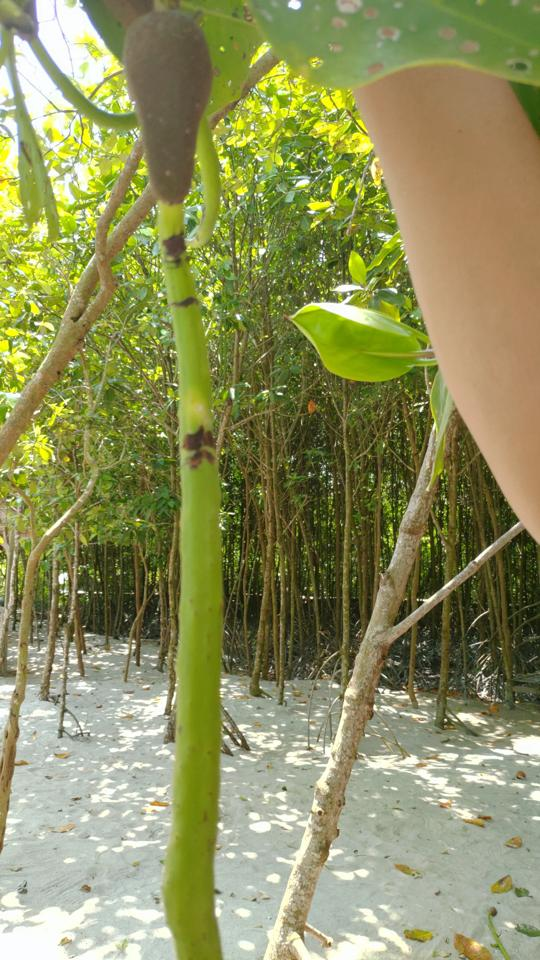setengah matang: (108, 8, 252, 959)
